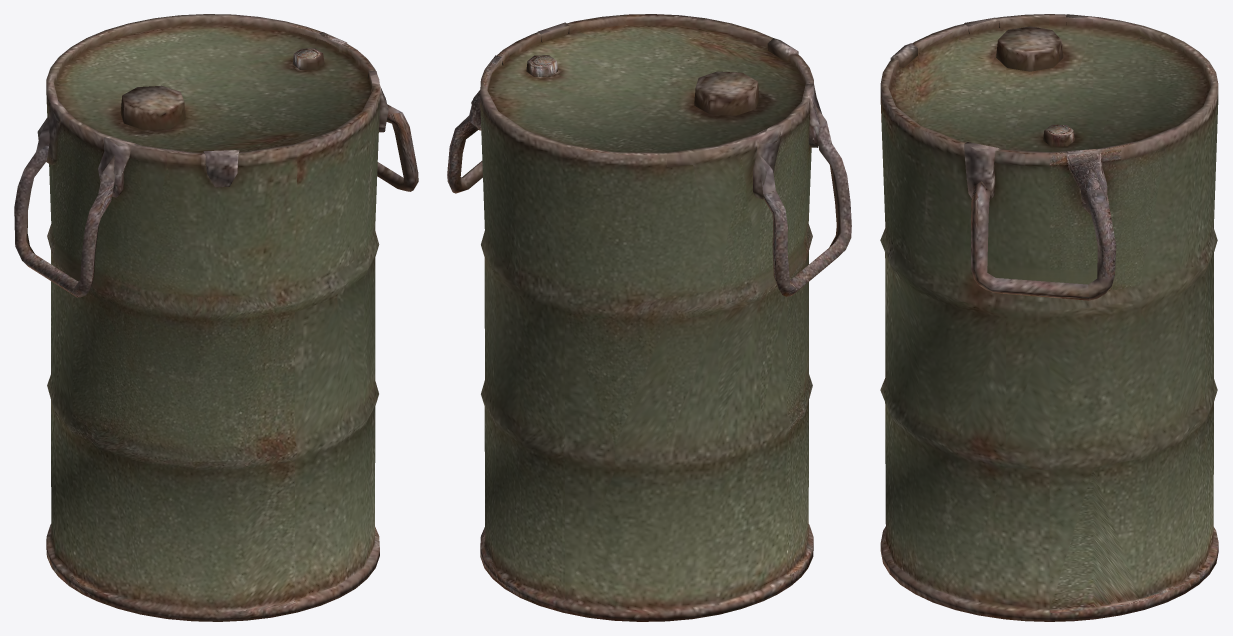
The model's file is AshBarrel.fbx.
3 renders of one model, left to right at view 1: azimuth 30°, elevation 25°; view 2: azimuth 150°, elevation 25°; view 3: azimuth 270°, elevation 25°, orthographic.
Visible parts, largest first — view 1: tripo_node_8b62e9a9; view 2: tripo_node_8b62e9a9; view 3: tripo_node_8b62e9a9.
Part boxes in pixels (x1,y1,x2,y2): tripo_node_8b62e9a9: (14,14,418,621); tripo_node_8b62e9a9: (447,14,851,621); tripo_node_8b62e9a9: (880,14,1218,621).
Size of the model in its own units: 0.7573 by 0.9995 by 0.6421.
